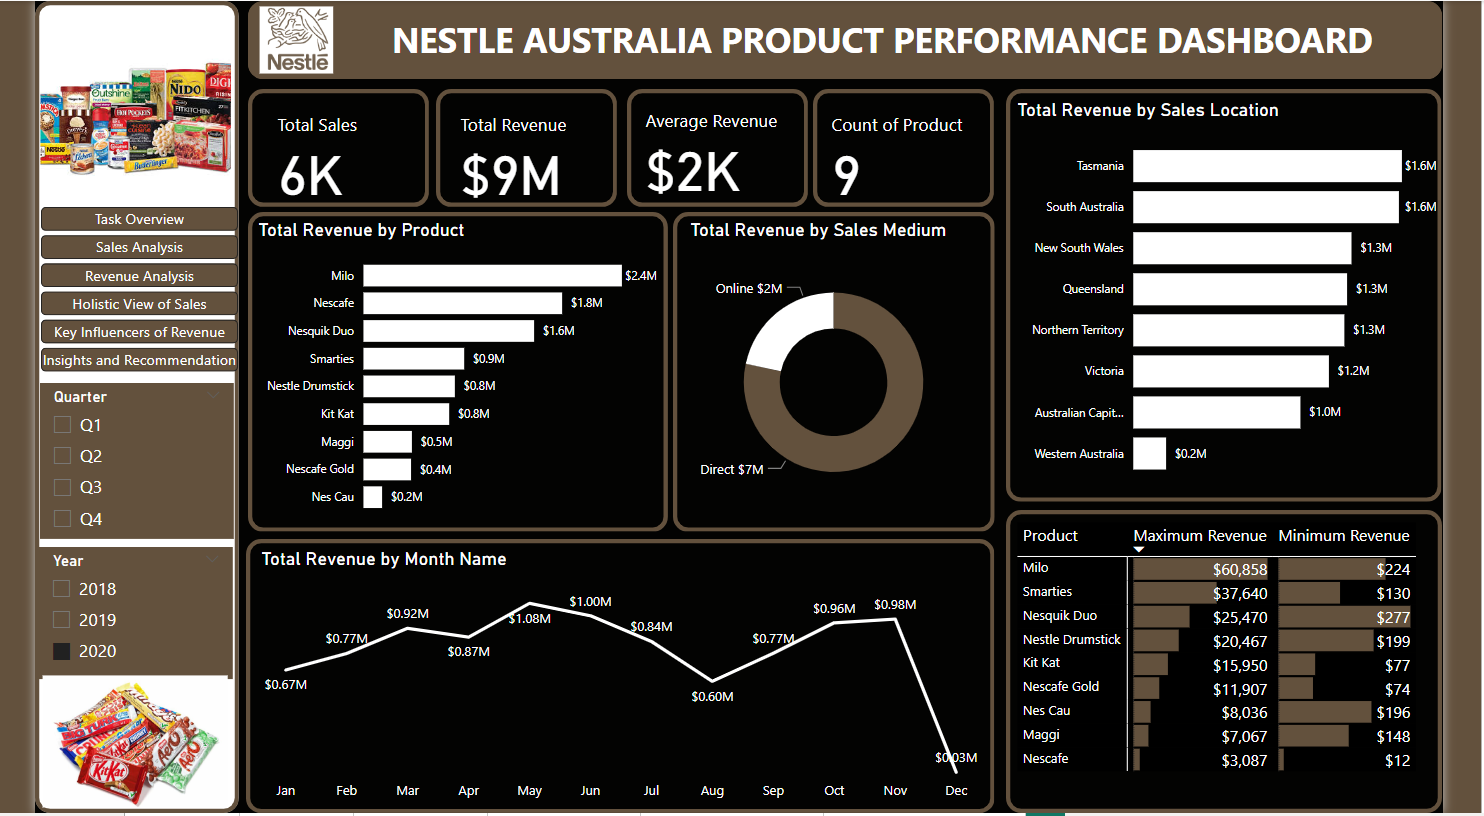

This screenshot's page, from the dashboard's own definition file:
{"tool":"powerbi","page":{"name":"Revenue Analysis","canvas":[1300,750],"ordinal":2},"visuals":[{"type":"shape","box":[0,0,188.4,750],"z":0},{"type":"shape","box":[196.6,0,1103,72.3],"z":1000},{"type":"image","box":[188.4,0,105.2,72.3],"z":2000},{"type":"image","box":[0,45.7,185.7,130.8],"z":3000},{"type":"shape","box":[196.6,81.4,167.4,108.8],"z":4000},{"type":"cardVisual","fields":{"Data":["Calculations.Total Revenue"]},"box":[375.9,86,164.6,103.4],"z":5000},{"type":"cardVisual","fields":{"Data":["Calculations.Total Sales"]},"box":[206.7,86,148.2,99.7],"z":6000},{"type":"cardVisual","fields":{"Data":["Calculations.Average Revenue"]},"box":[547,82.3,167.4,103.4],"z":7000},{"type":"pivotTable","fields":{"Rows":["Nestle sales.Product Name"],"Values":["Calculations.Maximum Revenue","Calculations.Minimum Revenue"]},"box":[902.7,476.5,387.8,268.9],"z":8000},{"type":"shape","box":[589,194.8,297.3,295.4],"z":9000},{"type":"shape","box":[194.8,496.6,691.5,253.4],"z":10000},{"type":"lineChart","fields":{"Y":["Calculations.Total Revenue"],"Category":["Calendar Dim.Month Name"]},"box":[204.1,505.2,674.3,242],"z":11000},{"type":"shape","box":[196.6,194.8,387.8,295.4],"z":12000},{"type":"slicer","fields":{"Values":["Calendar Dim.Year"]},"box":[3.7,504,179.3,121.6],"z":13000},{"type":"slicer","fields":{"Values":["Calendar Dim.Quarter"]},"box":[4.6,353,179.3,143.6],"z":14000},{"type":"clusteredBarChart","fields":{"Y":["Calculations.Total Revenue"],"Category":["Nestle sales.Product Name"]},"box":[201.2,201.2,377.7,282.6],"z":15000},{"type":"clusteredBarChart","fields":{"Category":["Nestle sales.Sales Location"],"Y":["Calculations.Total Revenue"]},"box":[902.7,90.5,397,363.1],"z":16000},{"type":"shape","box":[897.3,81.4,402.4,381.4],"z":17000},{"type":"image","box":[0,618.3,185.7,131.7],"z":18000},{"type":"donutChart","fields":{"Category":["Nestle sales.Sales Medium"],"Y":["Calculations.Total Revenue"]},"box":[600,201.2,274.4,282.6],"z":19000},{"type":"shape","box":[896.9,470.1,402.7,279.9],"z":20000},{"type":"pageNavigator","box":[5.5,190.2,182.9,157.3],"z":21000},{"type":"textbox","box":[280.8,8.2,1003.4,64],"z":22000},{"type":"shape","box":[370.4,81.4,167.4,108.8],"z":23000},{"type":"shape","box":[547,81.4,167.4,108.8],"z":24000},{"type":"shape","box":[718.9,81.4,167.4,108.8],"z":25000},{"type":"cardVisual","fields":{"Data":["Count(Nestle sales.Product Name)"]},"box":[718.9,86,160.1,99.7],"z":26000}]}

Visuals, with their boxes on the page's 1300x750 design canvas (x1, y1, x2, y2). These are canvas units, not pixel positions in the 1484x816 screenshot, which may show the page scaled, cropped or inside an application window:
shape: region(0, 0, 188, 750)
shape: region(197, 0, 1300, 72)
image: region(188, 0, 294, 72)
image: region(0, 46, 186, 176)
shape: region(197, 81, 364, 190)
cardVisual - Calculations.Total Revenue: region(376, 86, 540, 189)
cardVisual - Calculations.Total Sales: region(207, 86, 355, 186)
cardVisual - Calculations.Average Revenue: region(547, 82, 714, 186)
pivotTable - Nestle sales.Product Name x Calculations.Maximum Revenue: region(903, 476, 1290, 745)
shape: region(589, 195, 886, 490)
shape: region(195, 497, 886, 750)
lineChart - Calculations.Total Revenue x Calendar Dim.Month Name: region(204, 505, 878, 747)
shape: region(197, 195, 584, 490)
slicer - Calendar Dim.Year: region(4, 504, 183, 626)
slicer - Calendar Dim.Quarter: region(5, 353, 184, 497)
clusteredBarChart - Calculations.Total Revenue x Nestle sales.Product Name: region(201, 201, 579, 484)
clusteredBarChart - Nestle sales.Sales Location x Calculations.Total Revenue: region(903, 90, 1300, 454)
shape: region(897, 81, 1300, 463)
image: region(0, 618, 186, 750)
donutChart - Nestle sales.Sales Medium x Calculations.Total Revenue: region(600, 201, 874, 484)
shape: region(897, 470, 1300, 750)
pageNavigator: region(6, 190, 188, 348)
textbox: region(281, 8, 1284, 72)
shape: region(370, 81, 538, 190)
shape: region(547, 81, 714, 190)
shape: region(719, 81, 886, 190)
cardVisual - Count(Nestle sales.Product Name): region(719, 86, 879, 186)
